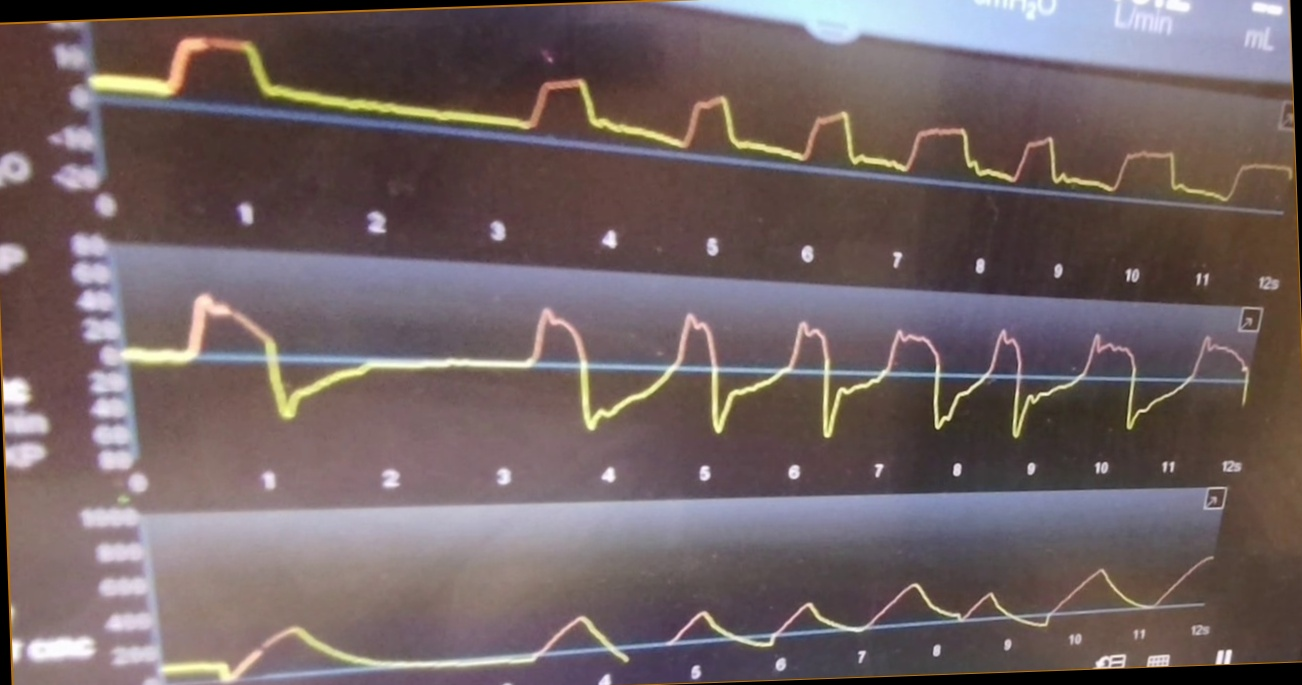Accumulation Flow: (128, 290, 1244, 440)
Volume: (167, 540, 1213, 685)
